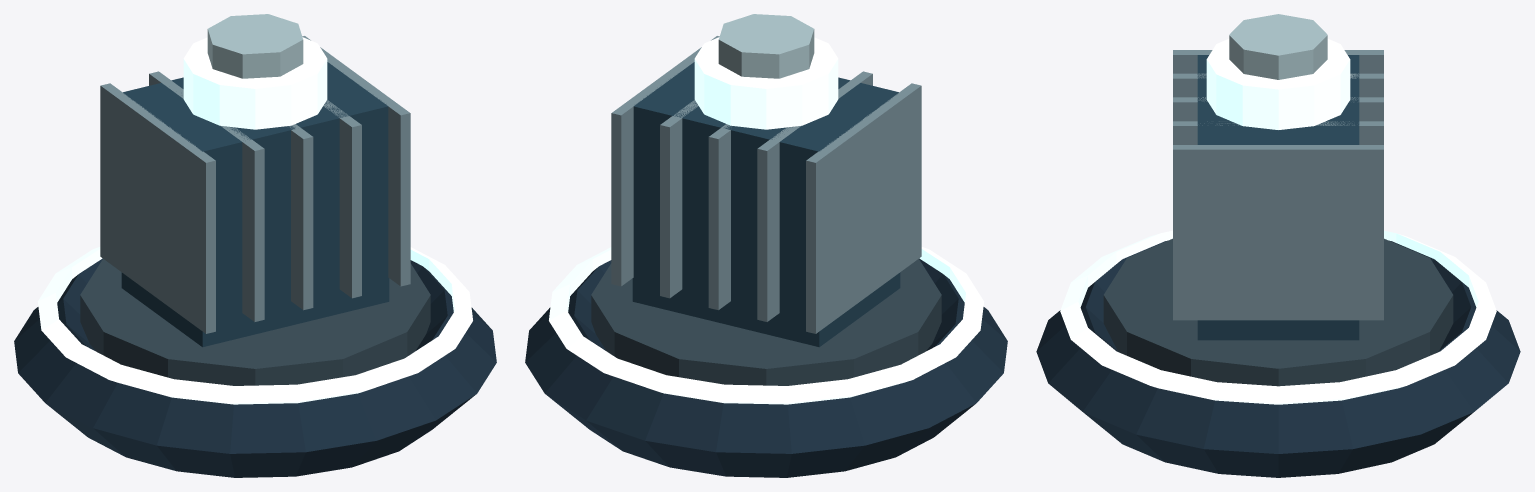
The model's file is coolant.glb.
The picture shows the model from 3 angles, left to right: view 1: azimuth 30°, elevation 25°; view 2: azimuth 150°, elevation 25°; view 3: azimuth 270°, elevation 25°; orthographic projection.
Visible parts, largest first — view 1: coolant; view 2: coolant; view 3: coolant.
Part boxes in pixels (box(x1,y1,x2,y2)): coolant: box(14, 14, 496, 477); coolant: box(525, 14, 1007, 477); coolant: box(1036, 14, 1520, 477).
Bounding box in the file's own units: 1.08 × 0.89 × 1.08.
